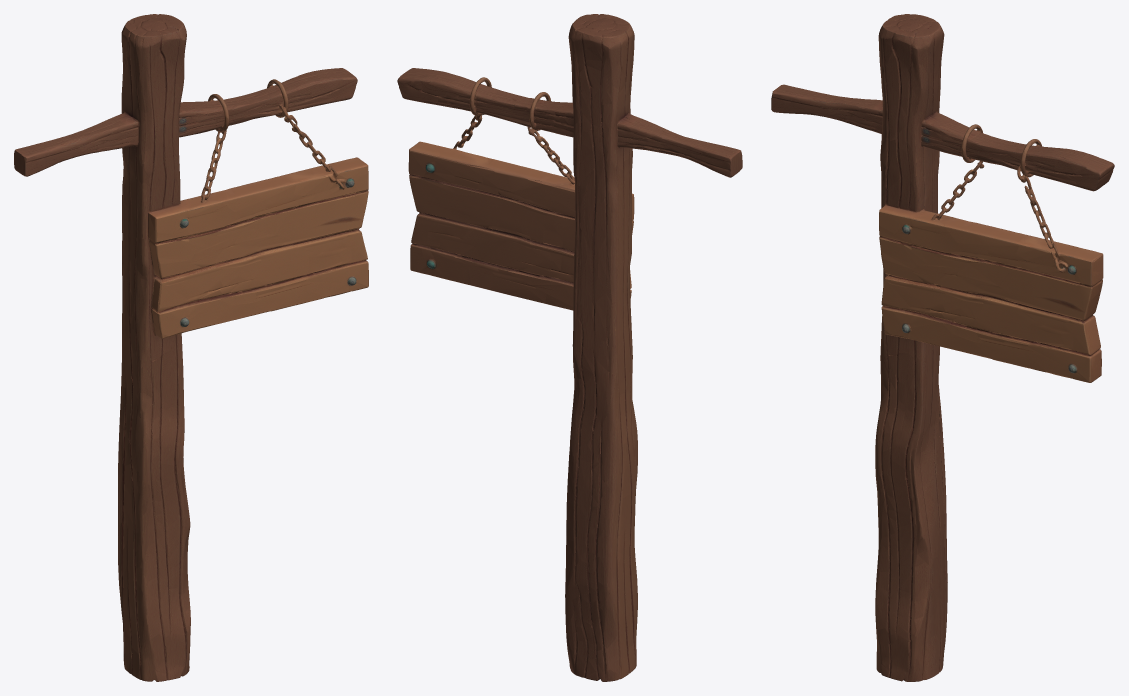
Rendered from signpost.glb.
3 renders of one model, left to right at view 1: azimuth 30°, elevation 25°; view 2: azimuth 150°, elevation 25°; view 3: azimuth 330°, elevation 25°, orthographic.
Size of the model in its own units: 1.03 by 1.9 by 0.197.
Materials: 1 (1 with a texture image).
